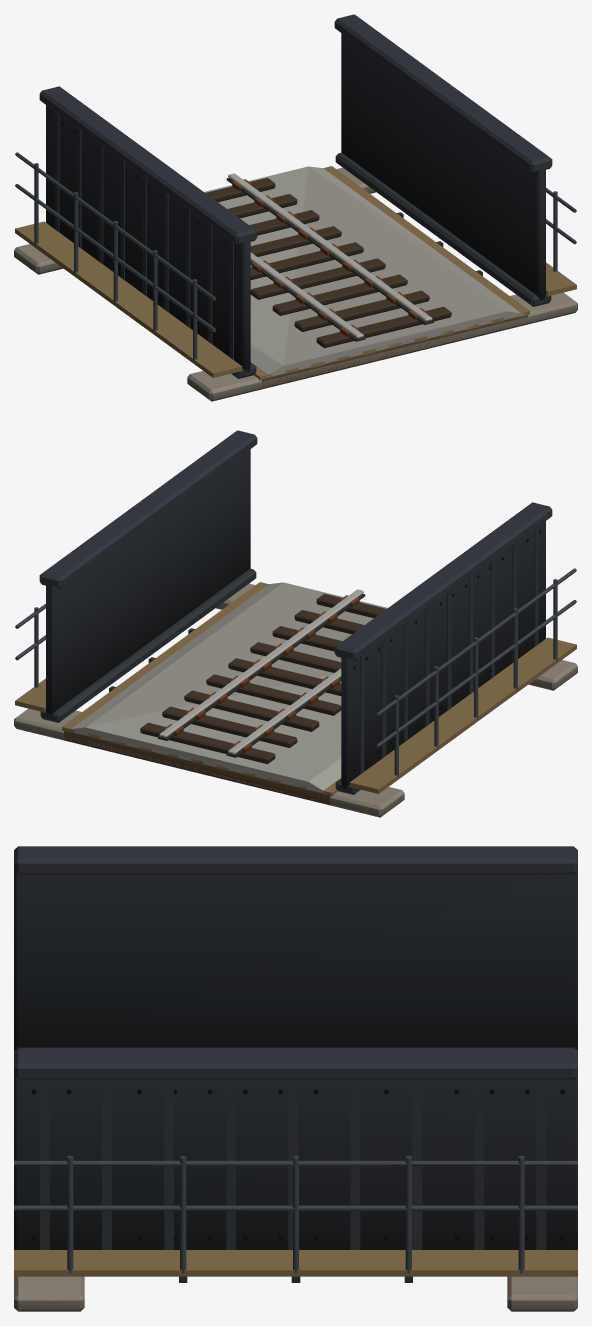
File: track-bridge-straight-tile.glb
3 renders of one model, top to bottom at view 1: azimuth 30°, elevation 25°; view 2: azimuth 150°, elevation 25°; view 3: azimuth 270°, elevation 25°, orthographic. The views are drawn at different scales.
Parts seen in each view (by area): view 1: track_bridge_straight_tile; view 2: track_bridge_straight_tile; view 3: track_bridge_straight_tile.
Boxes of the visible parts, x1,y1,x2,y2 form: track_bridge_straight_tile: [14, 14, 577, 401]; track_bridge_straight_tile: [14, 430, 577, 817]; track_bridge_straight_tile: [14, 846, 577, 1311].
Size of the model in its own units: 4.3 by 1.8 by 4.
